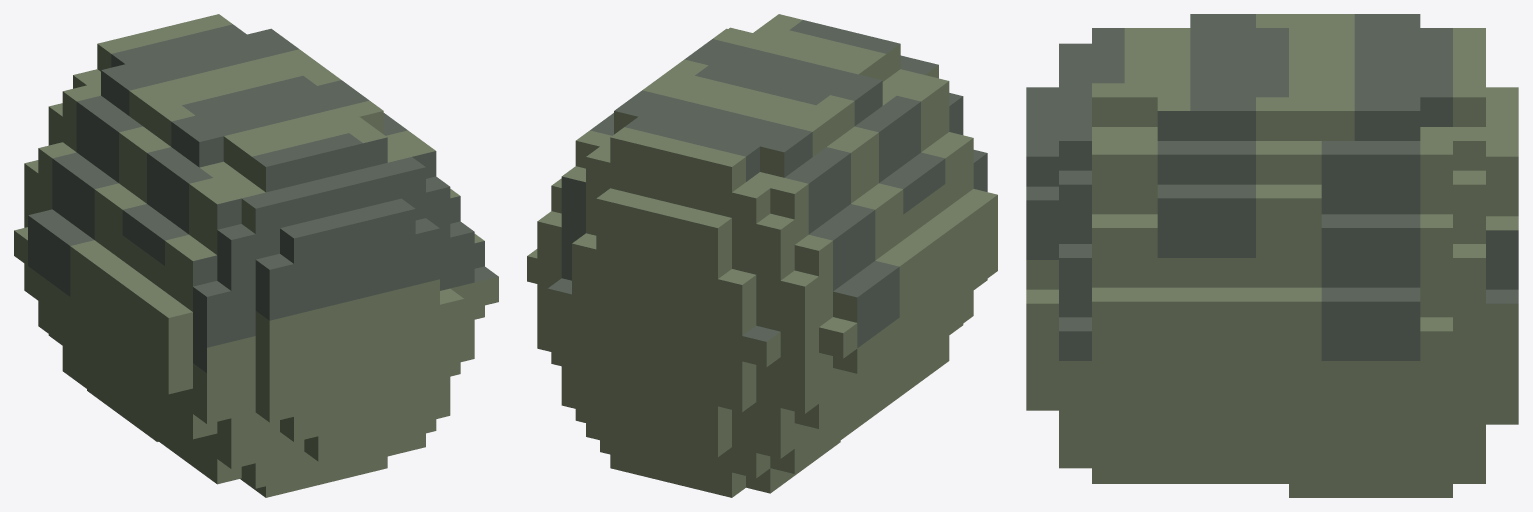
Rendered from SnakeBody.fbx.
3 views of the same model, side by side, from view 1: azimuth 30°, elevation 25°; view 2: azimuth 150°, elevation 25°; view 3: azimuth 270°, elevation 25° (orthographic). The views are drawn at different scales.
Parts seen in each view (by area): view 1: Plane.014; view 2: Plane.014; view 3: Plane.014.
Boxes of the visible parts, x1,y1,x2,y2 form: Plane.014: [14, 14, 498, 497]; Plane.014: [527, 14, 997, 497]; Plane.014: [1026, 14, 1518, 497].
Size of the model in its own units: 58.31 by 58.31 by 67.28.
